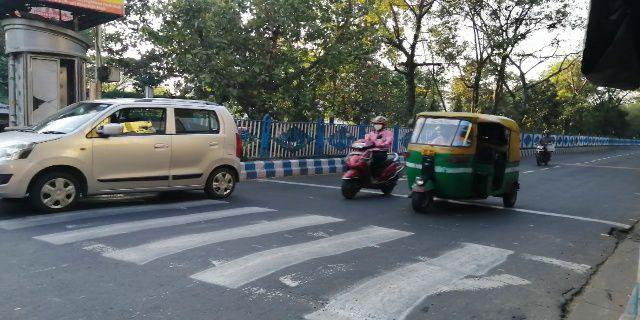Autorickshaw: (401, 109, 526, 211)
Car: (1, 91, 244, 212)
Motorbike: (336, 115, 400, 201), (532, 125, 556, 168)
